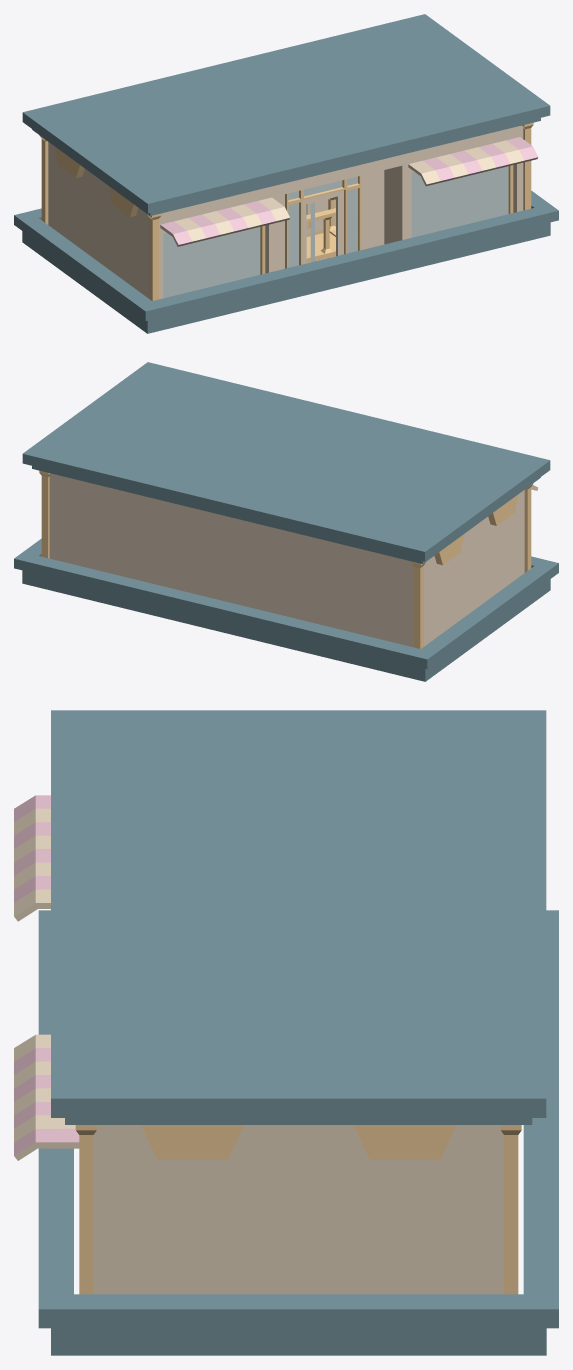
Rendered from House1.fbx.
The picture shows the model from 3 angles, top to bottom: view 1: azimuth 30°, elevation 25°; view 2: azimuth 150°, elevation 25°; view 3: azimuth 270°, elevation 25°; orthographic projection. The views are drawn at different scales.
Parts seen in each view (by area): view 1: Base, Roof, Floor, Balcony; view 2: Base, Floor, Roof; view 3: Base, Floor, Roof.
Boxes of the visible parts, x1,y1,x2,y2 form: Base: (22, 14, 550, 300); Roof: (14, 190, 558, 333); Floor: (22, 19, 549, 300); Balcony: (306, 197, 335, 263); Base: (22, 364, 550, 648); Floor: (22, 362, 550, 648); Roof: (14, 538, 558, 681); Base: (14, 710, 546, 1294); Floor: (51, 722, 546, 1294); Roof: (38, 910, 558, 1355).
Bounding box in the file's own units: 1999 × 615 × 1155.
